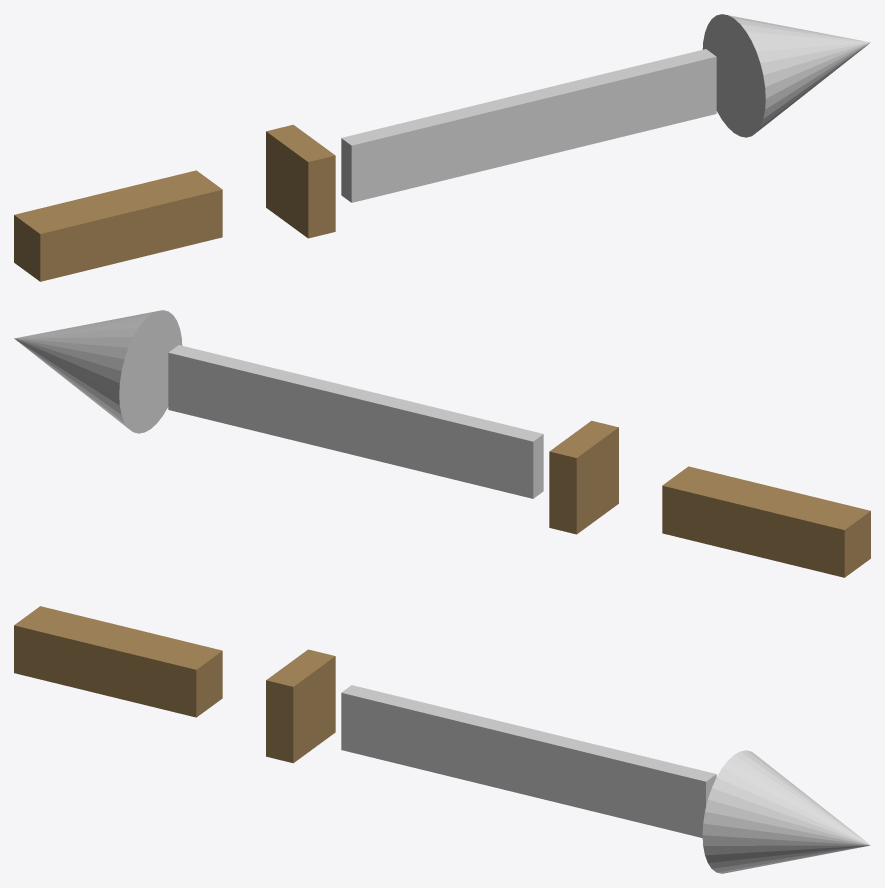
File: Knife.glb
3 renders of one model, top to bottom at view 1: azimuth 30°, elevation 25°; view 2: azimuth 150°, elevation 25°; view 3: azimuth 330°, elevation 25°, orthographic.
Parts seen in each view (by area): view 1: Cube; view 2: Cube; view 3: Cube.
Boxes of the visible parts, x1,y1,x2,y2 form: Cube: (14, 14, 870, 281); Cube: (14, 310, 870, 577); Cube: (14, 606, 870, 873).
Size of the model in its own units: 0.925 by 0.12 by 0.12.
